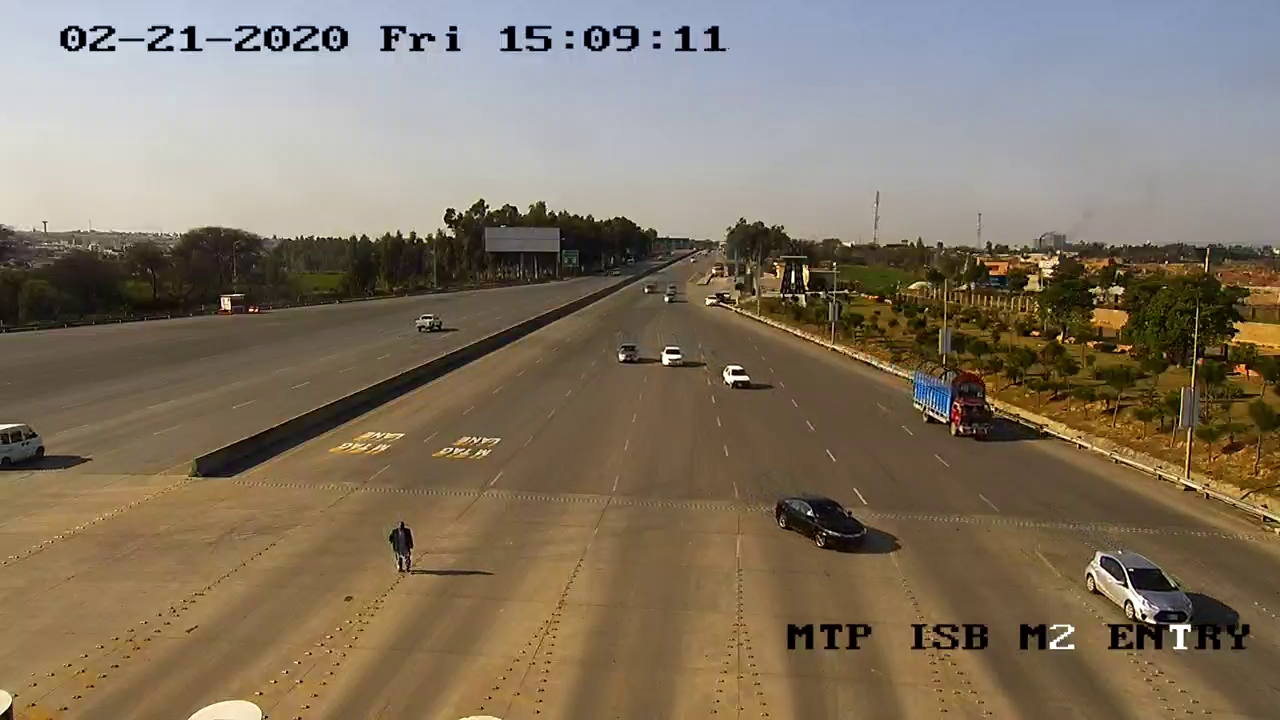f1: (1083, 541, 1199, 635), (773, 485, 875, 563), (719, 358, 753, 395)
f5: (907, 354, 1004, 446)
